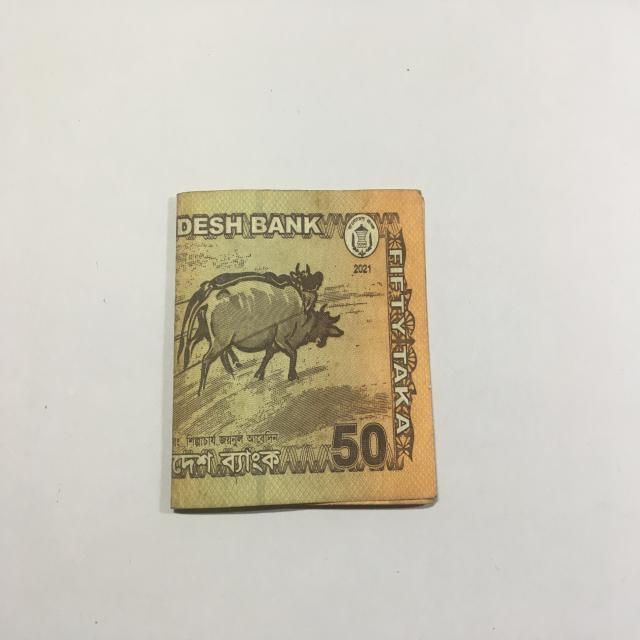Taka: (167, 180, 445, 511)
